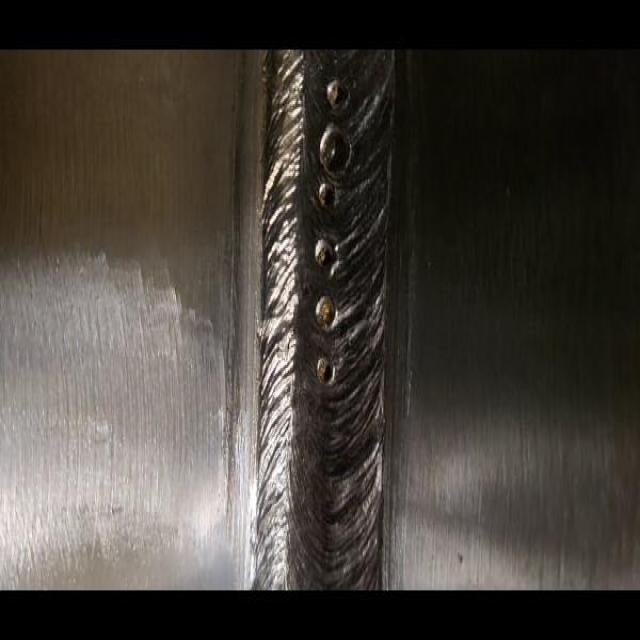Welding Line: (267, 55, 378, 589)
Workpiece: (1, 52, 640, 591)
porosity: (314, 78, 352, 383)
